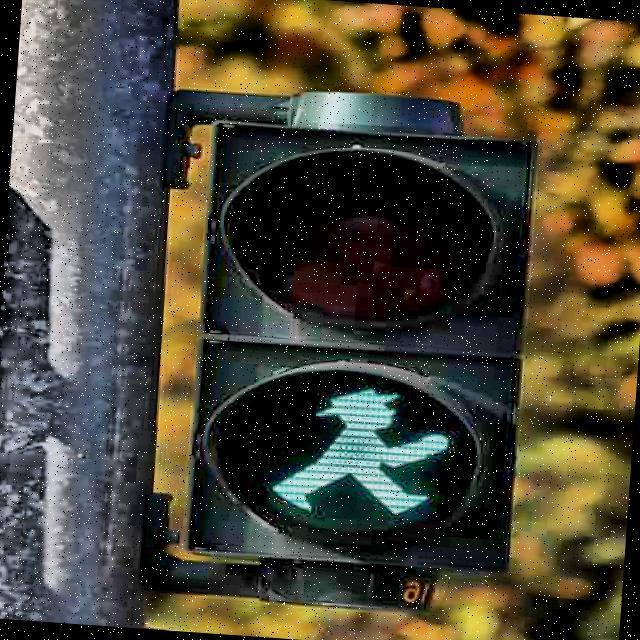green_light: (259, 375, 462, 528)
